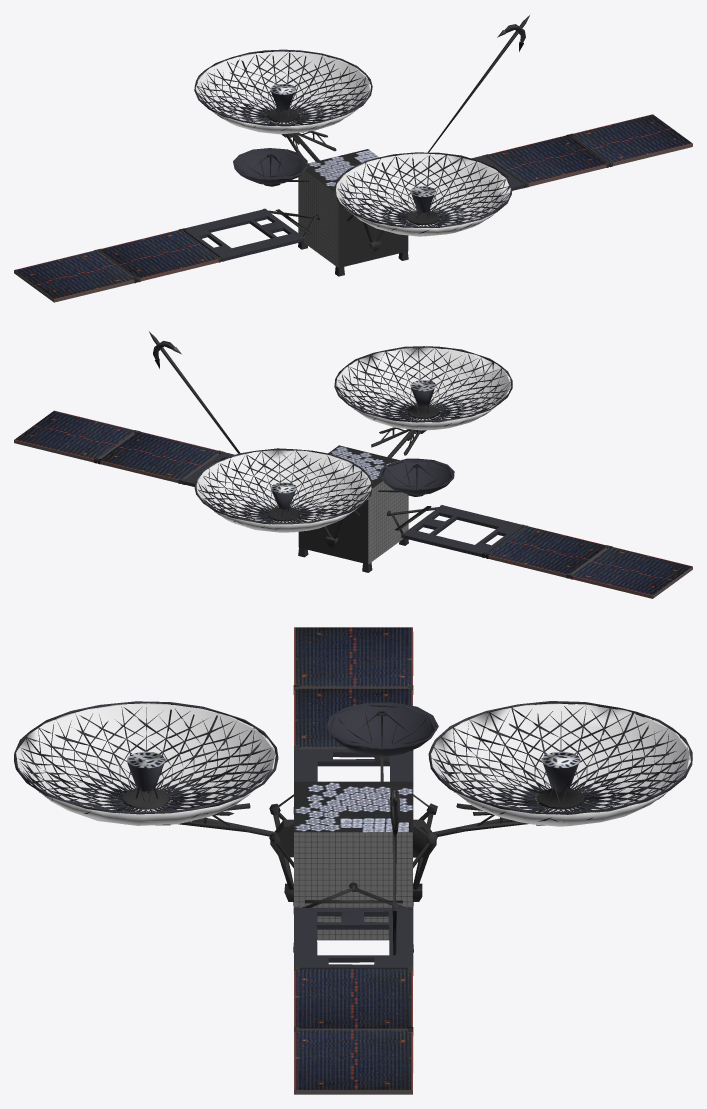
File: tdrs_lod1.glb
The picture shows the model from 3 angles, top to bottom: view 1: azimuth 30°, elevation 25°; view 2: azimuth 150°, elevation 25°; view 3: azimuth 270°, elevation 25°; orthographic projection. The views are drawn at different scales.
Parts seen in each view (by area): view 1: tdrs_lod1; view 2: tdrs_lod1; view 3: tdrs_lod1.
Boxes of the visible parts, x1=… form: tdrs_lod1: x1=14, y1=15, x2=692, y2=302; tdrs_lod1: x1=14, y1=331, x2=692, y2=598; tdrs_lod1: x1=14, y1=627, x2=692, y2=1094.
Bounding box in the file's own units: 20.75 × 5.65 × 12.87.
Materials: 5 (3 with a texture image).
